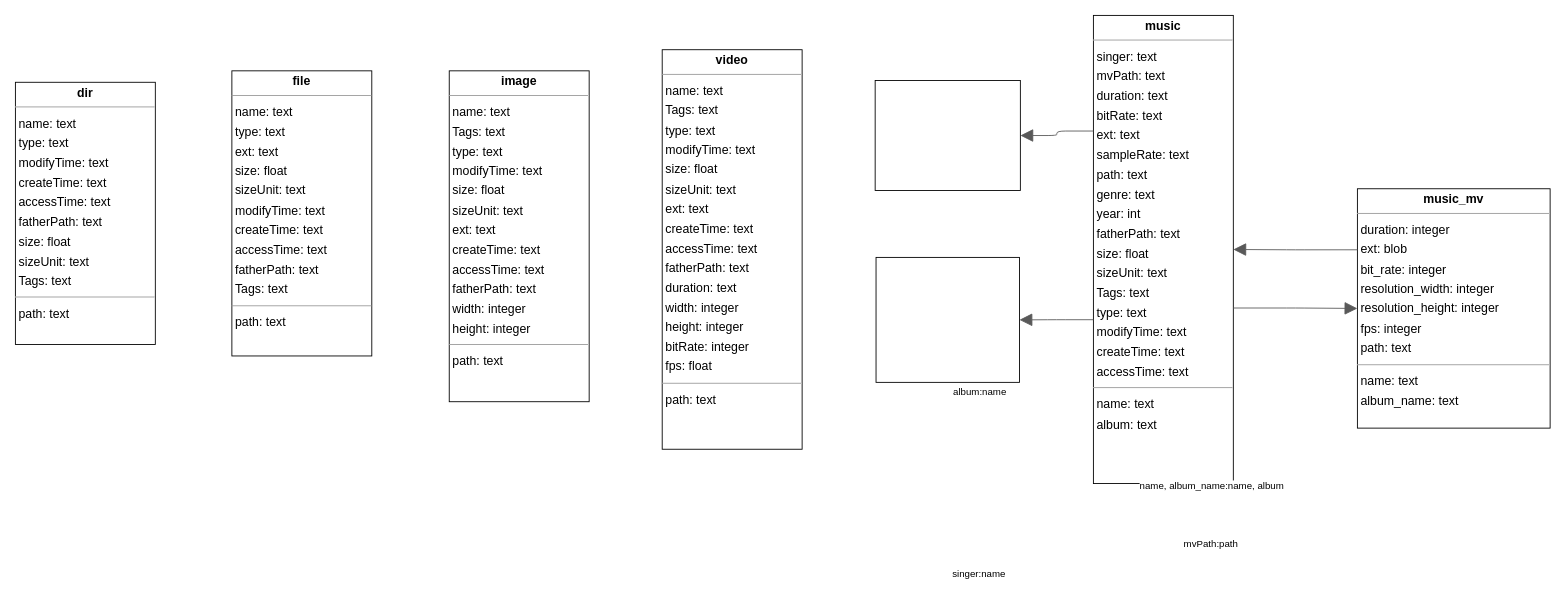
Image size: 1566x596. Some labels were removed from this diagram. Each missing label, with the box of its shape:
music_album publisher: text year: int name: text: (874, 80, 1020, 191)
music_singer gender: text birth: text area: text name: text: (875, 257, 1019, 382)
